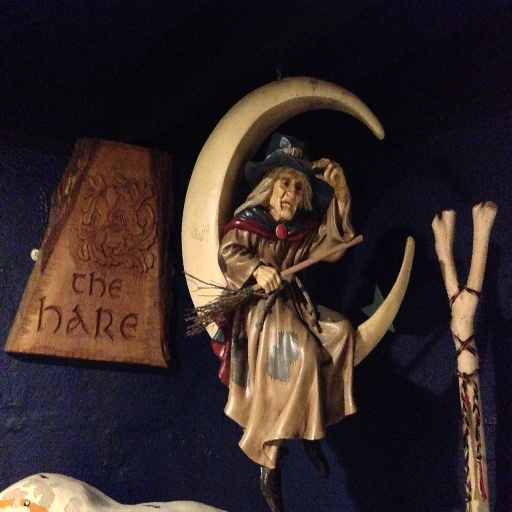hand: (311, 158, 349, 199), (254, 261, 282, 295)
